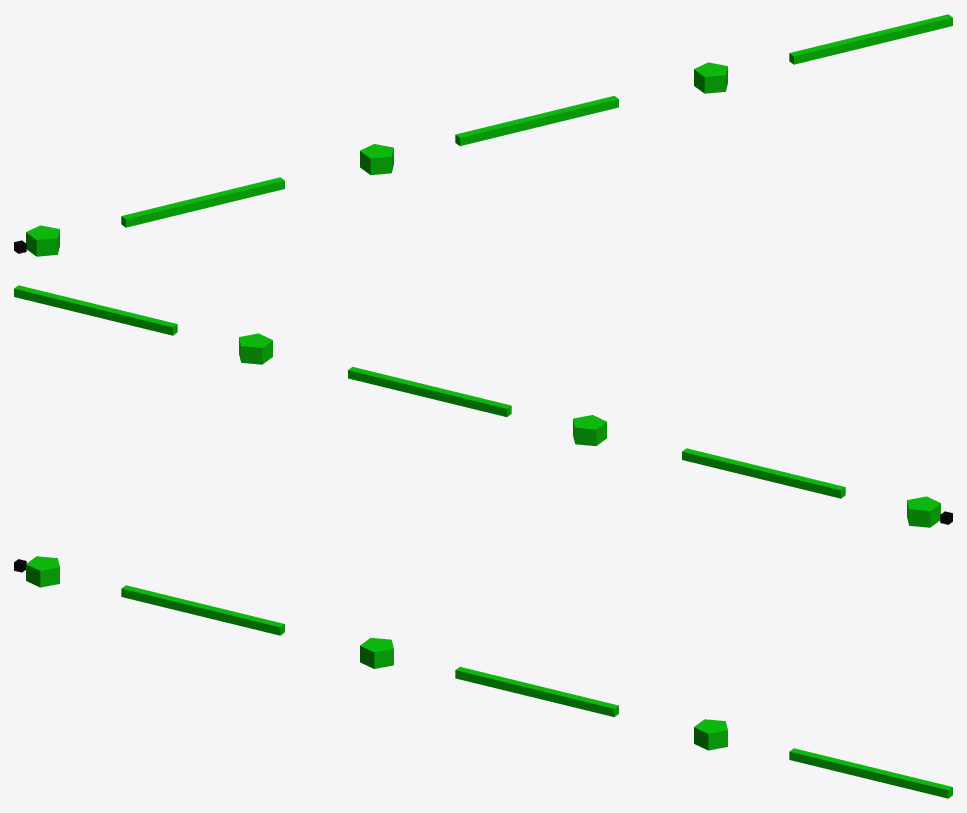
The picture shows the model from 3 angles, top to bottom: view 1: azimuth 30°, elevation 25°; view 2: azimuth 150°, elevation 25°; view 3: azimuth 330°, elevation 25°; orthographic projection.
Parts seen in each view (by area): view 1: link1, link2, link3, cylinder1, cylinder2, cylinder3; view 2: link1, link2, link3, cylinder1, cylinder2, cylinder3; view 3: link1, link2, link3, cylinder1, cylinder2, cylinder3.
Boxes of the visible parts, x1,y1,x2,y2 form: link1: (121,177,284,227); link2: (455,96,618,145); link3: (789,14,952,64); cylinder1: (26,225,59,256); cylinder2: (360,144,393,174); cylinder3: (694,62,727,93); link1: (682,448,845,498); link2: (348,367,511,416); link3: (14,285,177,335); cylinder1: (907,496,940,527); cylinder2: (573,415,606,445); cylinder3: (239,333,272,364); link1: (121,585,284,635); link2: (455,667,618,716); link3: (789,748,952,798); cylinder1: (26,556,59,587); cylinder2: (360,638,393,668); cylinder3: (694,719,727,750).
Bounding box in the file's own units: 2.94 × 0.0951 × 0.05.
